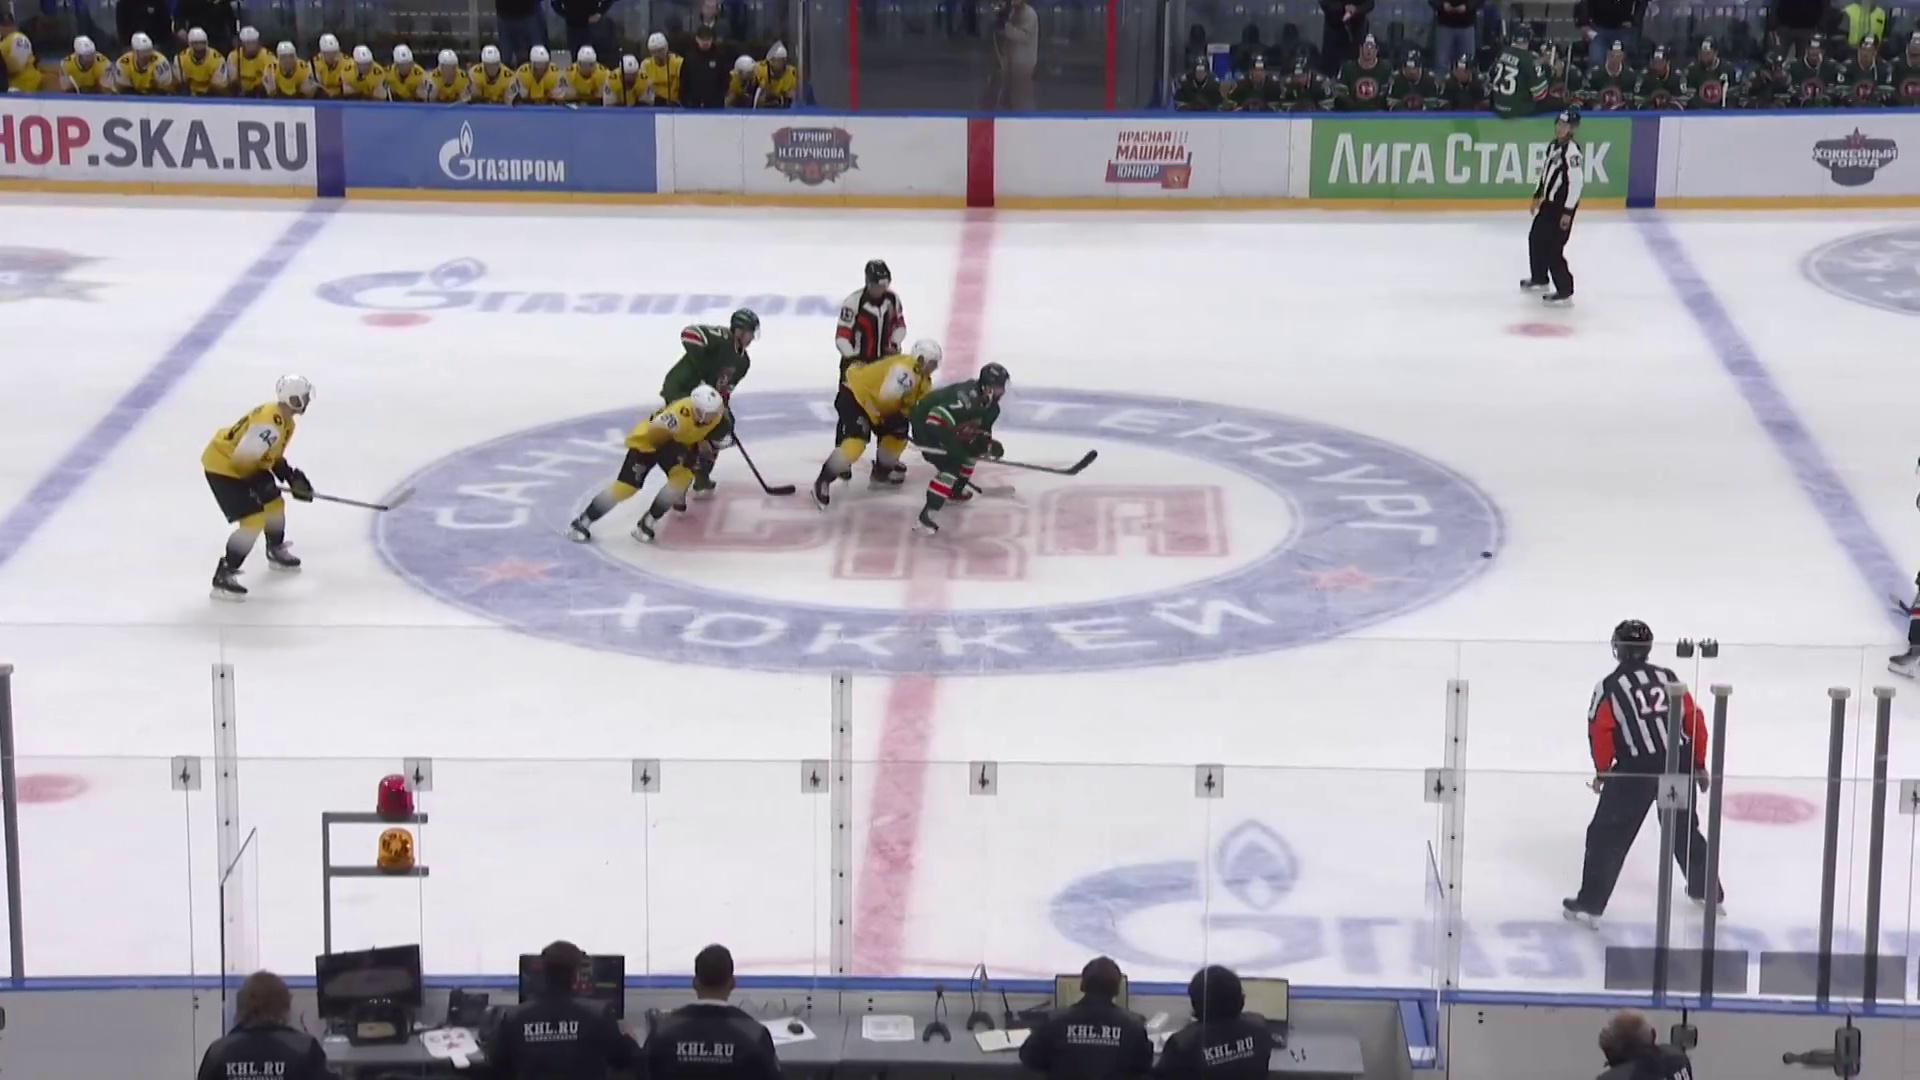ball: (1481, 550, 1494, 560)
